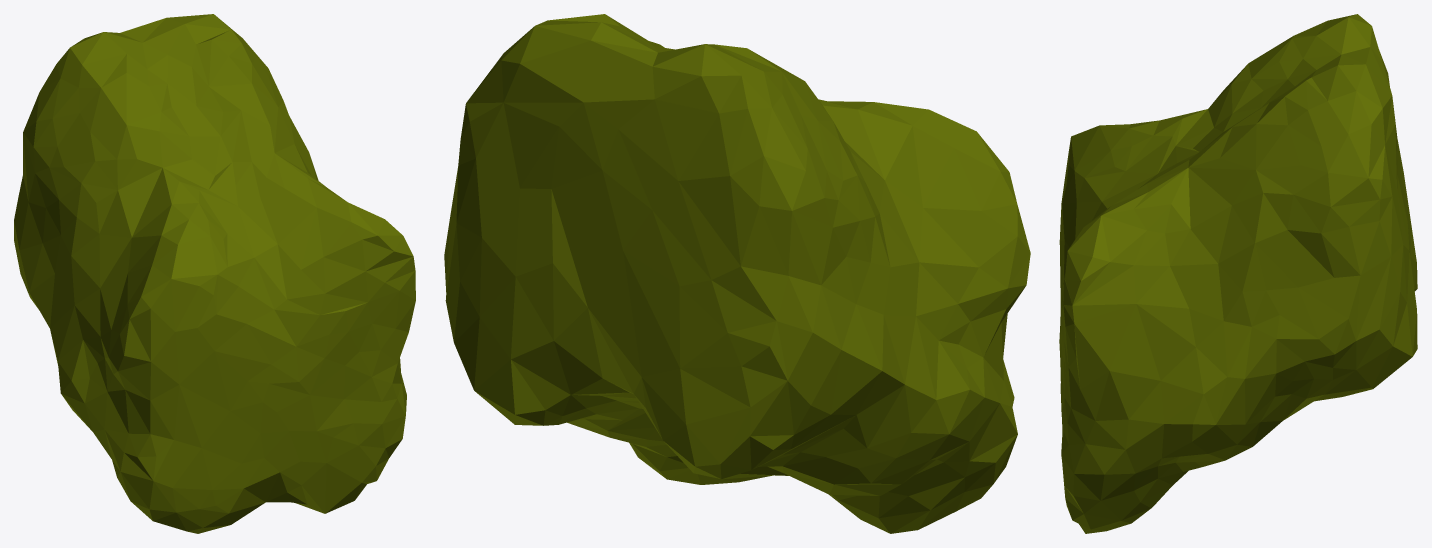
The model's file is 167-9M-area 9 of cortex, medial part-('0.4392', '0.4980', '0.0000').obj.
3 views of the same model, side by side, from view 1: azimuth 30°, elevation 25°; view 2: azimuth 150°, elevation 25°; view 3: azimuth 270°, elevation 25° (orthographic). The views are drawn at different scales.
Bounding box in the file's own units: 48.55 × 61.88 × 44.68.
